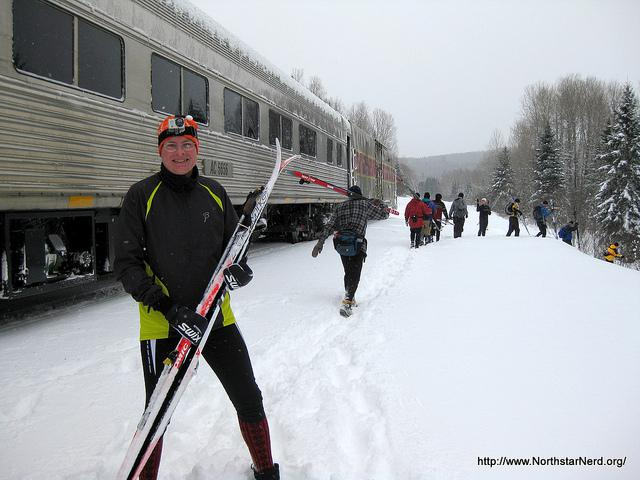Train: (0, 3, 402, 212)
